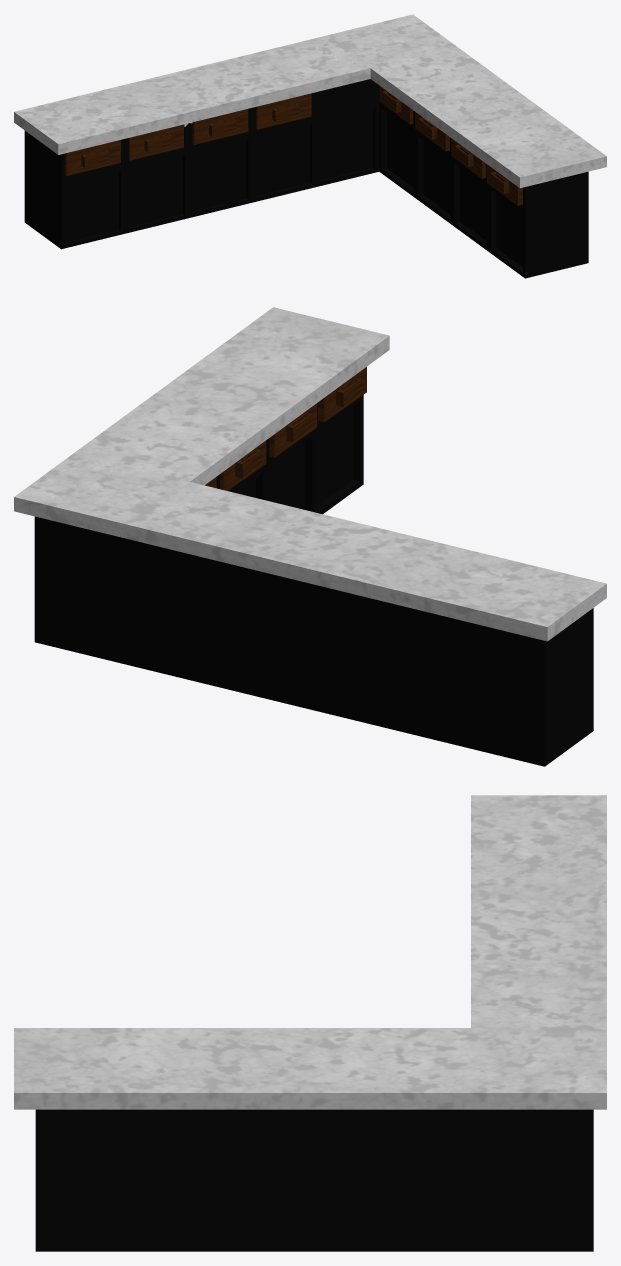
The model's file is Kitchen Counter.fbx.
3 renders of one model, top to bottom at view 1: azimuth 30°, elevation 25°; view 2: azimuth 150°, elevation 25°; view 3: azimuth 270°, elevation 25°, orthographic. The views are drawn at different scales.
Parts seen in each view (by area): view 1: Kitchen Counter.001, Counter, Drawer 3, Drawer 4, Drawer 1, Drawer 2, Drawer 5, Drawer 6, Drawer 7, Drawer 8; view 2: Kitchen Counter.001, Counter, Drawer 5, Drawer 6, Drawer 7; view 3: Counter, Kitchen Counter.001.
Part boxes in pixels (x1,y1,x2,y2): Kitchen Counter.001: (24, 79, 588, 278); Counter: (14, 14, 606, 188); Drawer 3: (192, 109, 248, 144); Drawer 4: (256, 93, 311, 129); Drawer 1: (65, 140, 120, 175); Drawer 2: (129, 124, 183, 160); Drawer 5: (487, 164, 522, 205); Drawer 6: (451, 138, 486, 178); Drawer 7: (415, 112, 449, 151); Drawer 8: (379, 85, 413, 124); Kitchen Counter.001: (34, 395, 593, 766); Counter: (14, 307, 606, 641); Drawer 5: (318, 367, 366, 422); Drawer 6: (269, 403, 317, 457); Drawer 7: (220, 440, 266, 490); Counter: (14, 795, 606, 1109); Kitchen Counter.001: (35, 1109, 593, 1251).
Size of the model in its own units: 1259 by 329 by 1060.
